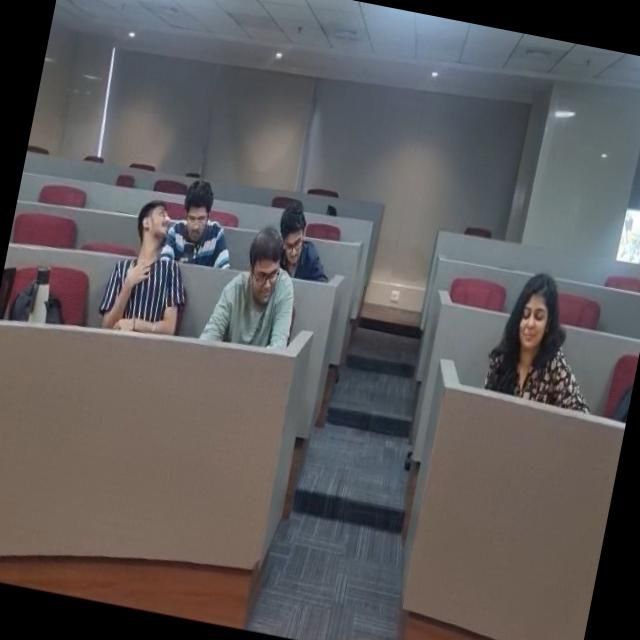cheating: (226, 220, 294, 320), (163, 180, 232, 261), (116, 202, 182, 280)
non-cheating: (490, 267, 584, 383), (262, 186, 323, 272)
